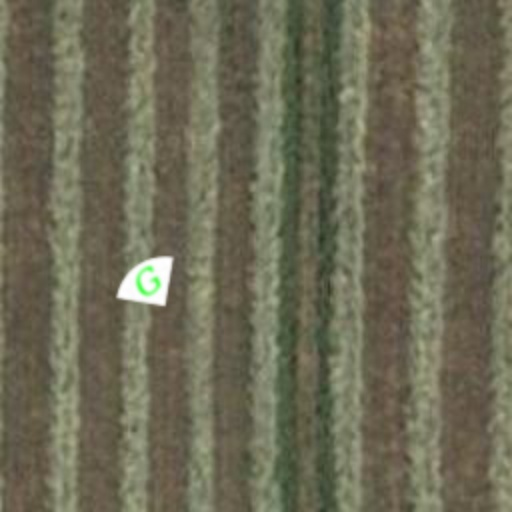quarter_circle: (100, 234, 196, 330)
